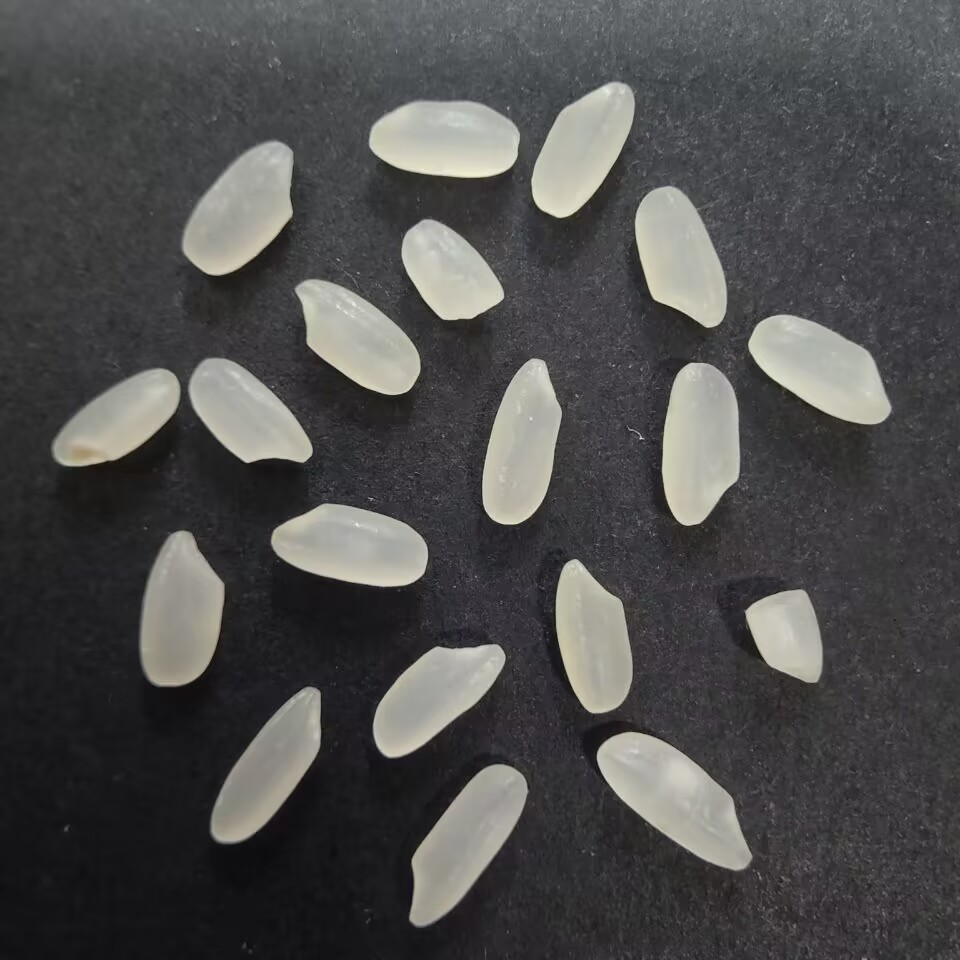broken: (399, 216, 506, 328), (738, 584, 829, 691)
rice: (590, 731, 759, 876), (399, 759, 531, 931), (209, 679, 330, 846), (741, 311, 896, 431), (178, 135, 304, 277), (366, 640, 509, 759), (291, 277, 425, 397), (527, 79, 639, 219), (475, 352, 563, 530), (656, 357, 745, 532), (628, 181, 730, 333), (261, 500, 432, 590), (138, 524, 228, 692), (50, 362, 186, 473), (185, 354, 317, 467), (548, 555, 636, 719), (358, 96, 527, 180)
